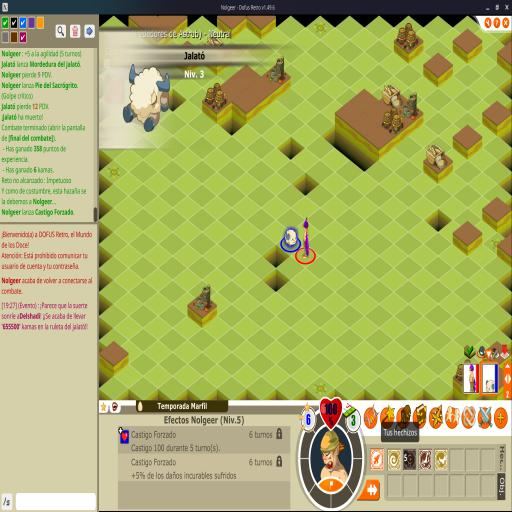Enemigos: (284, 228, 298, 248)
Personaje: (302, 217, 310, 259)
